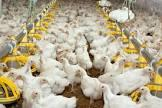chicken: (79, 66, 110, 107), (113, 67, 154, 94), (41, 55, 67, 91), (100, 84, 137, 107), (60, 58, 86, 88), (140, 87, 162, 108)
